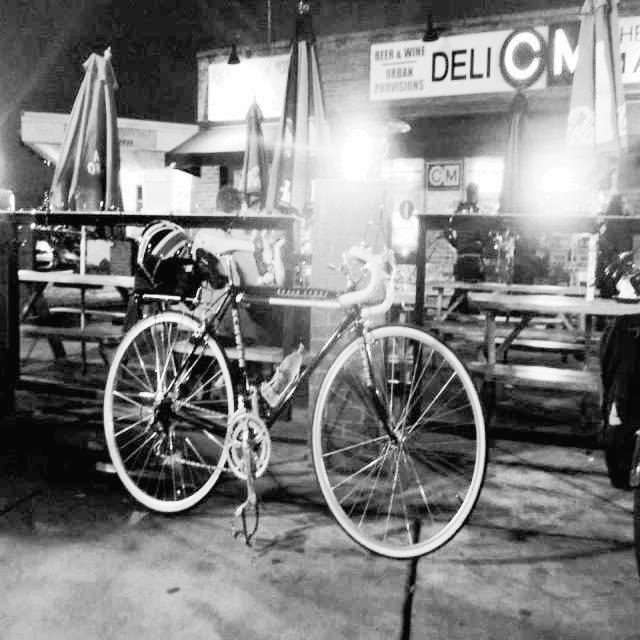Bicycle: (103, 191, 482, 549)
